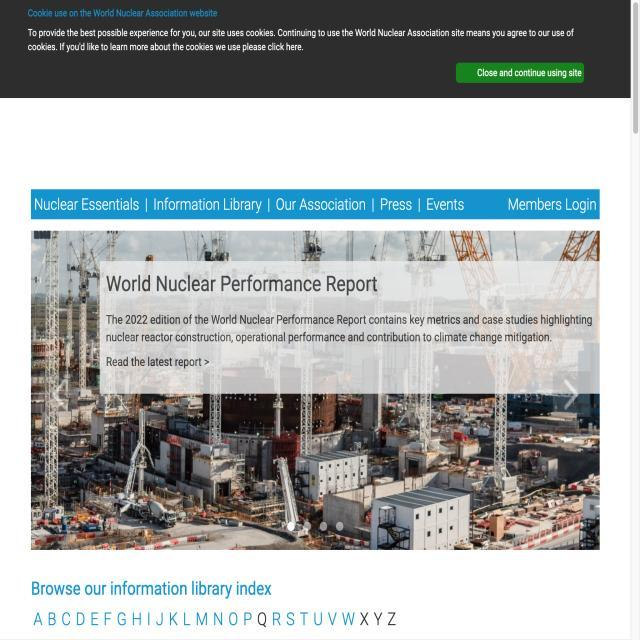button: (454, 60, 586, 86)
image: (32, 231, 602, 547)
